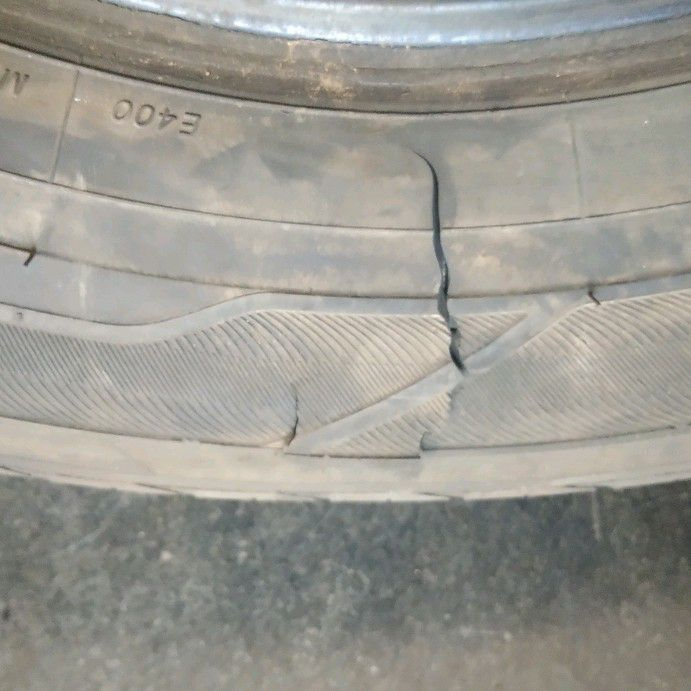cut: (409, 149, 464, 379)
